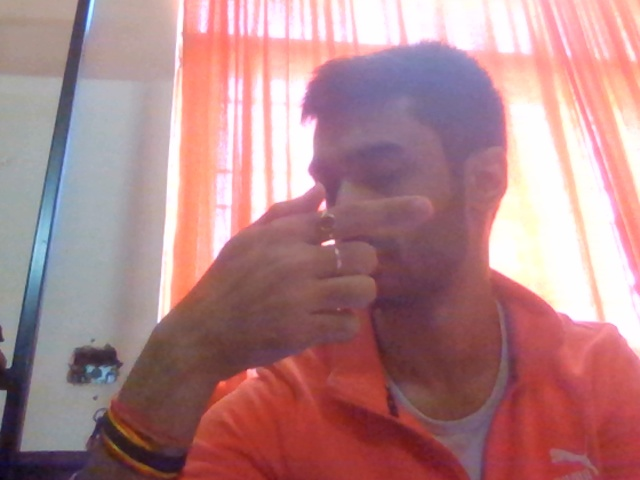G: (132, 178, 446, 395)
